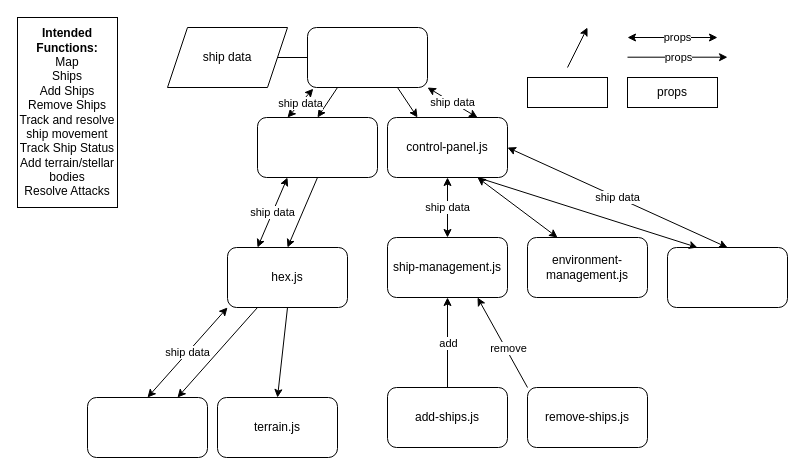
The diagram is 805 pixels wide and 475 high, and some of its shapes have lost their labels. The shapes that lost their labels are listed below. From the top down, each one's centre as x and y in pixels, then its label:
the point at 367,57: index.js
the point at 567,92: parent-child relationship
the point at 317,147: battle-map.js
the point at 727,277: roll-resolve-combat.js
the point at 147,427: ship.js
